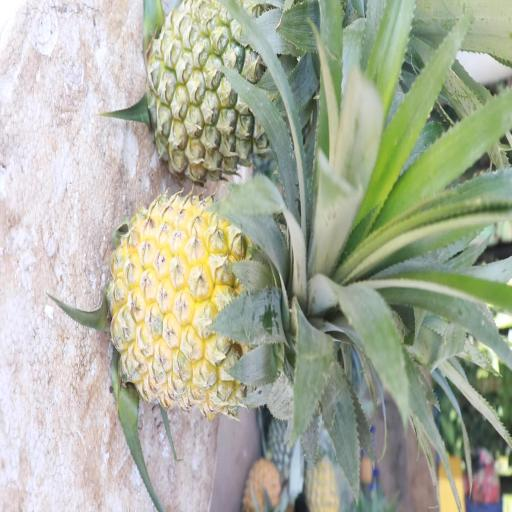------------------------------: (149, 0, 354, 179)
Pineapple - v8 v1: (110, 199, 337, 404)
